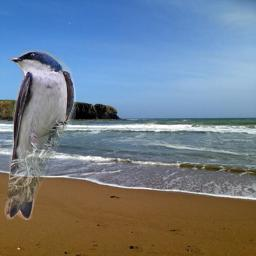Swallow: (2, 49, 76, 220)
